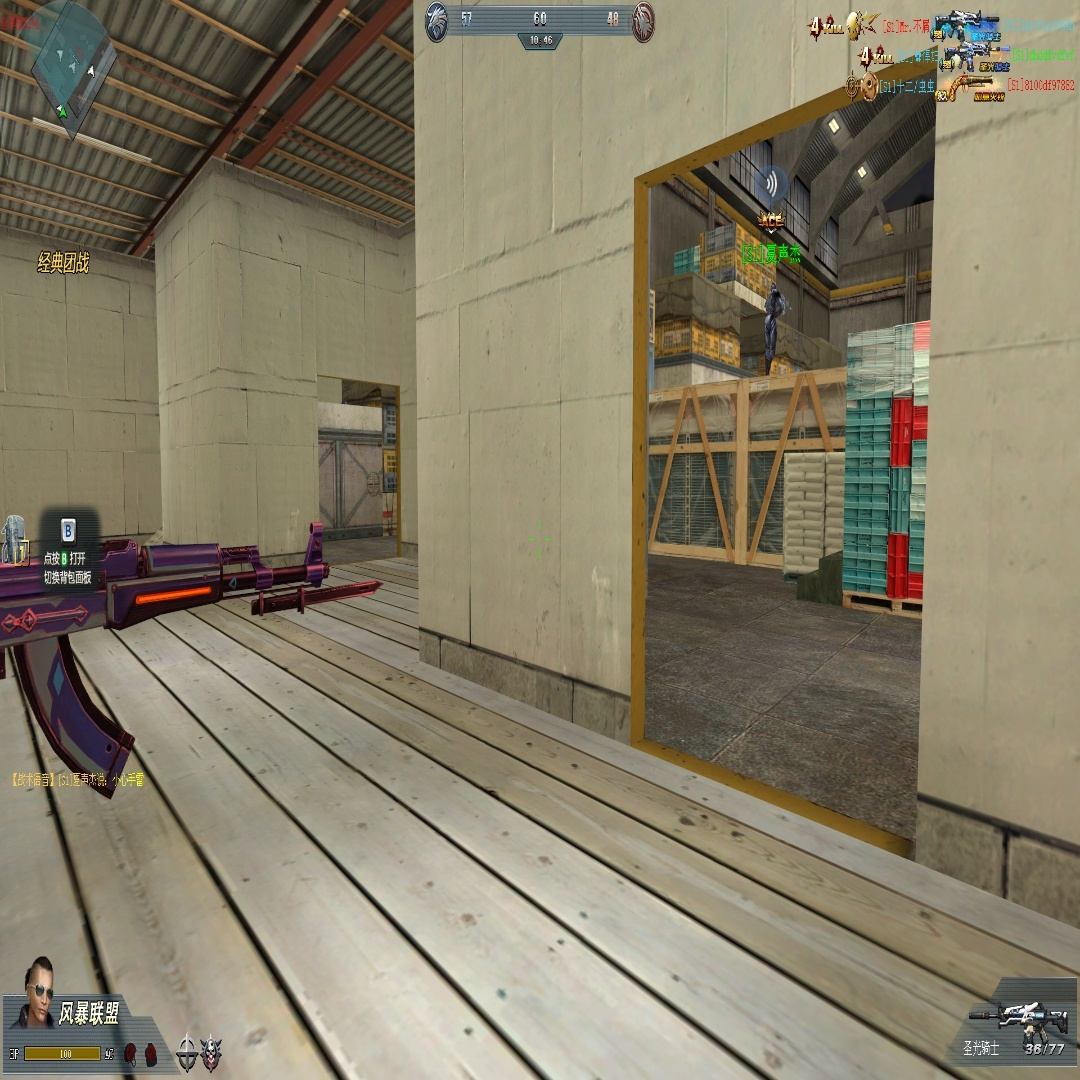ct: (763, 280, 786, 375)
